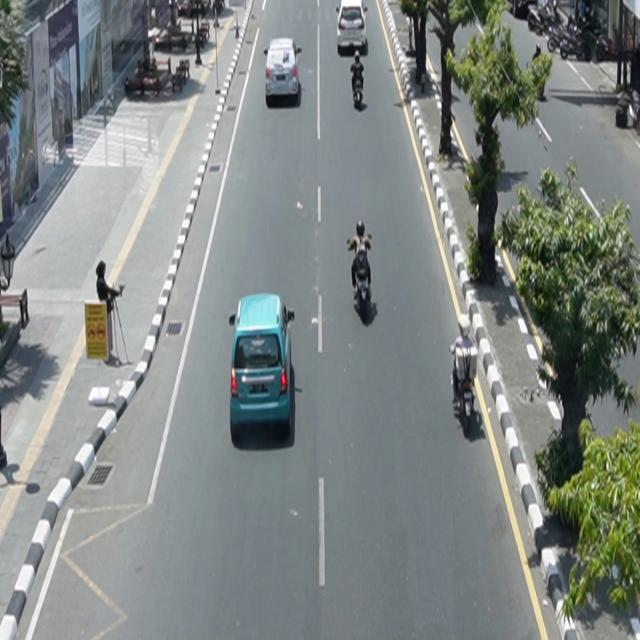car: (229, 293, 296, 444), (264, 38, 303, 103), (336, 1, 369, 56)
